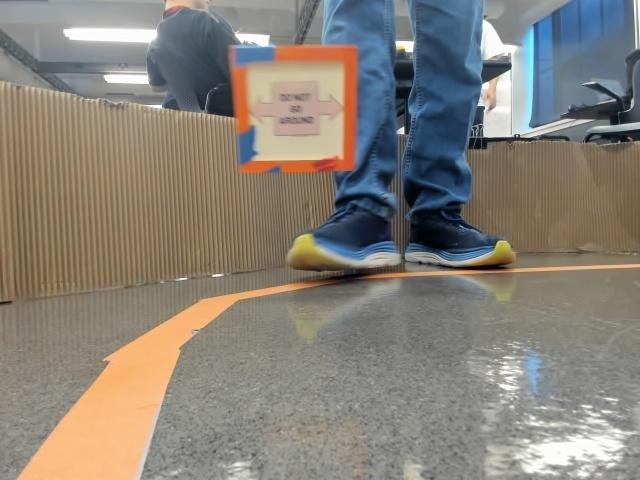Do Not Go Around: (250, 82, 341, 135)
